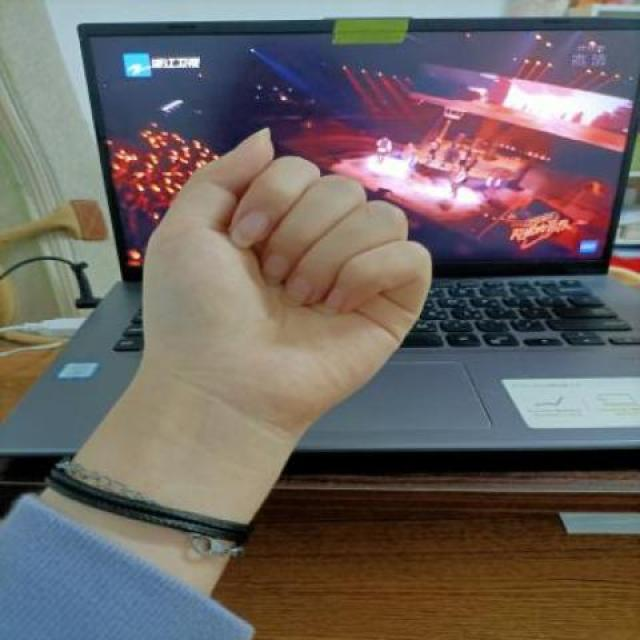Closed Hand: (111, 128, 449, 445)
